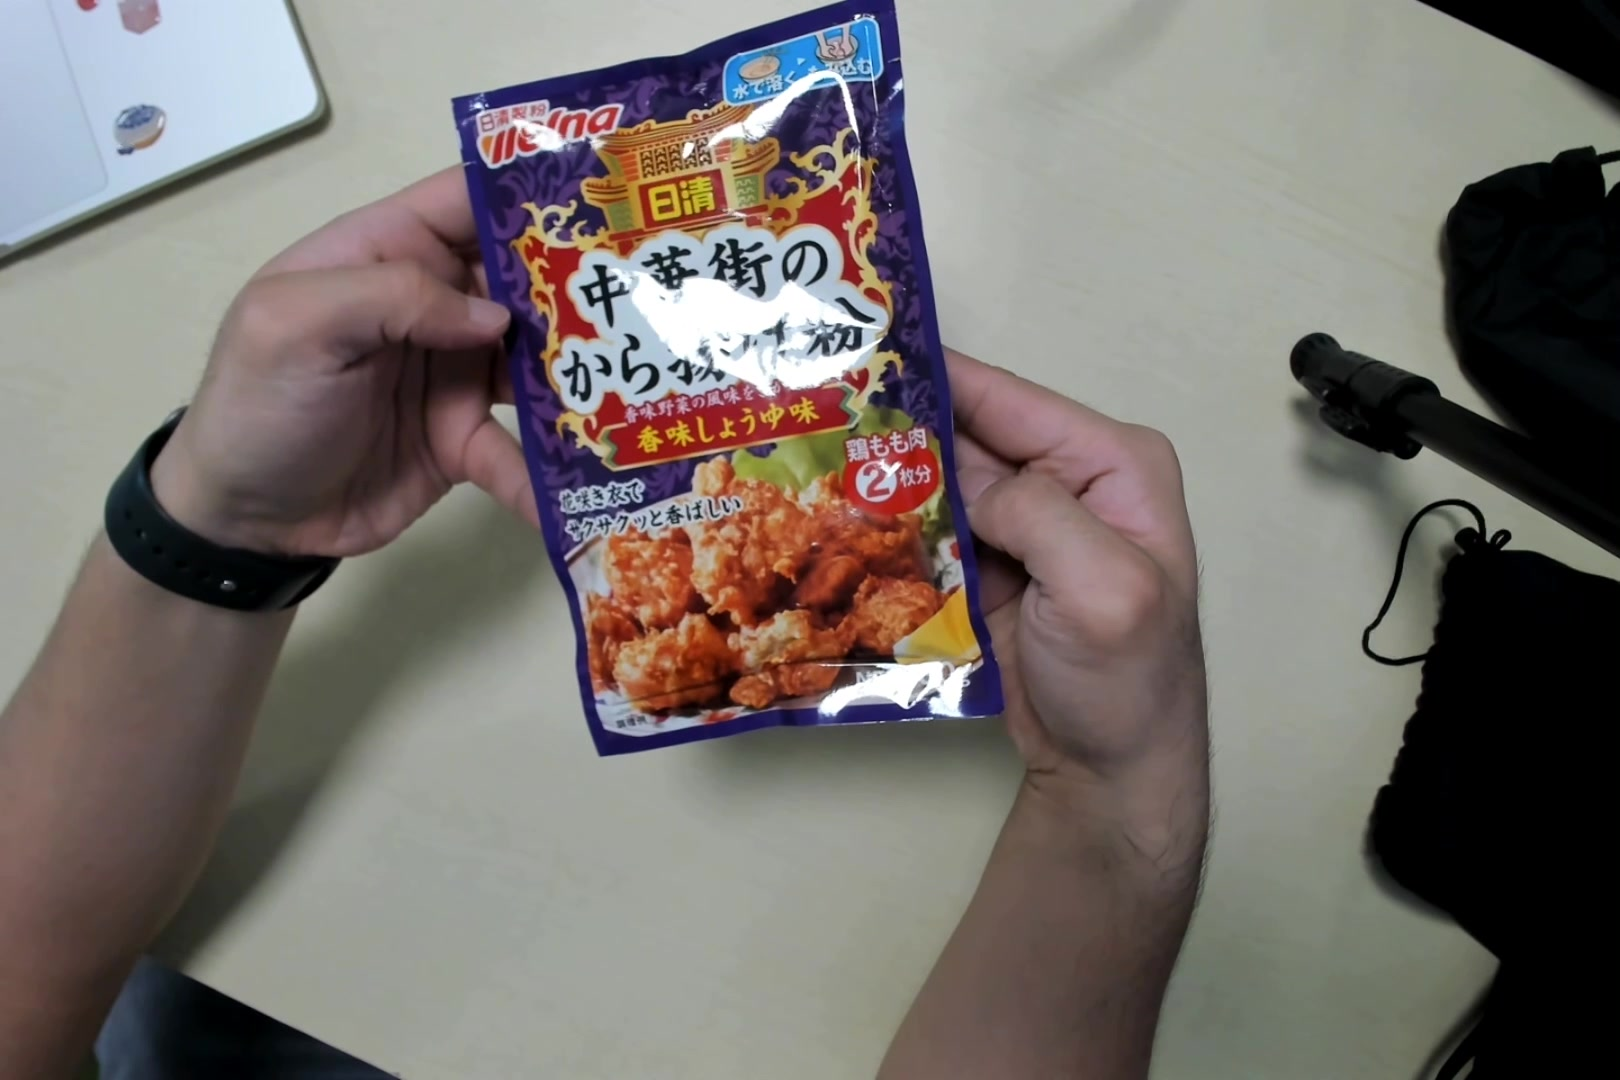OtherBakingNeeds_100-199g_NonHalal_NonHealthy: (452, 2, 1003, 761)
